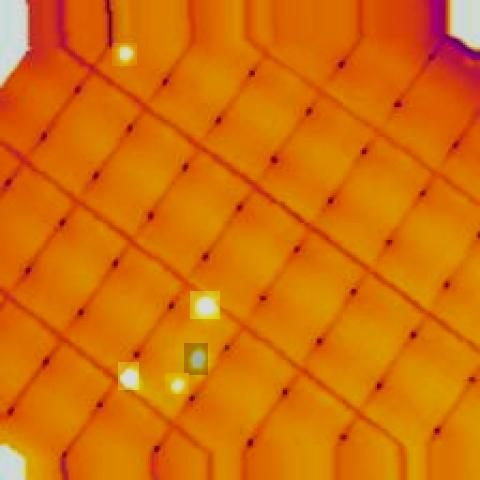fault: (190, 292, 220, 320), (184, 343, 208, 375), (118, 362, 139, 390), (112, 43, 137, 66), (165, 373, 189, 394)
